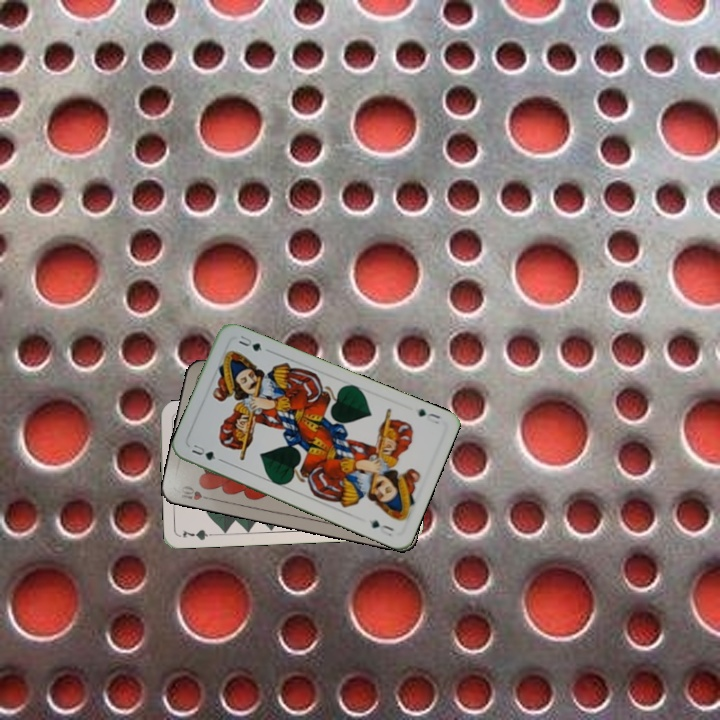G7: (179, 525, 219, 542)
GU: (187, 440, 218, 463), (414, 404, 444, 427)
H10: (177, 481, 216, 503)
